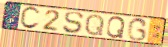2: (42, 9, 61, 32)
C: (19, 6, 42, 31)
G: (126, 17, 149, 42)
Q: (84, 13, 106, 37), (105, 16, 127, 39)
S: (62, 11, 85, 34)
